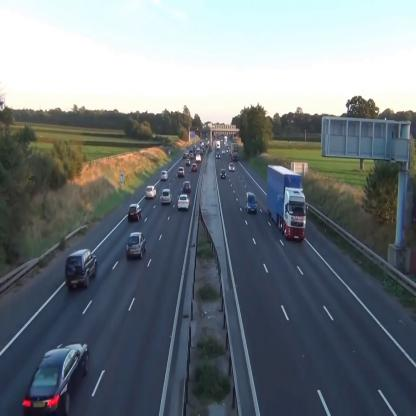car: (23, 340, 90, 416), (64, 248, 98, 288), (126, 232, 146, 258), (128, 203, 141, 222), (245, 190, 256, 212), (178, 193, 190, 210), (161, 188, 172, 204), (146, 185, 156, 199), (182, 181, 191, 193), (160, 170, 168, 180), (178, 166, 184, 178), (191, 163, 197, 172), (221, 168, 226, 178), (229, 163, 235, 171), (186, 158, 190, 166), (196, 154, 200, 162), (216, 152, 221, 158), (190, 153, 194, 160), (183, 152, 187, 158)
lorry: (268, 164, 309, 242)
